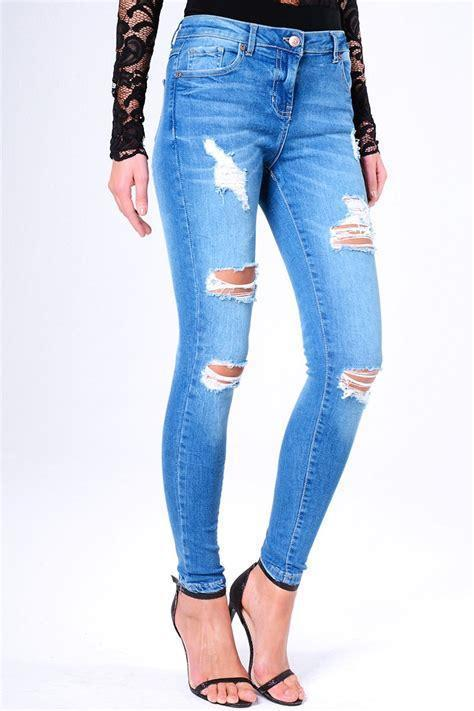pants: (151, 15, 384, 596)
